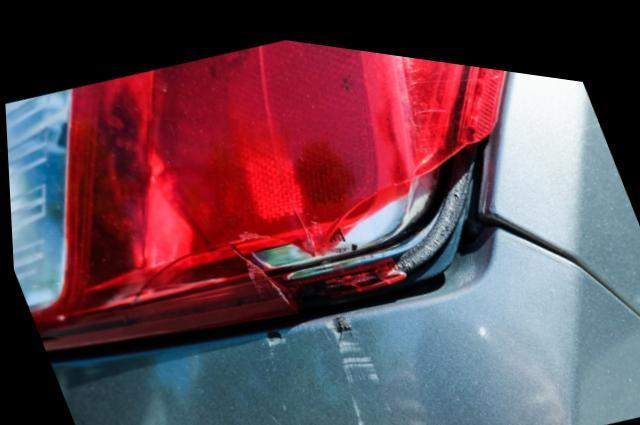lamp broken: (4, 31, 506, 349)
scratch: (259, 304, 384, 425)
